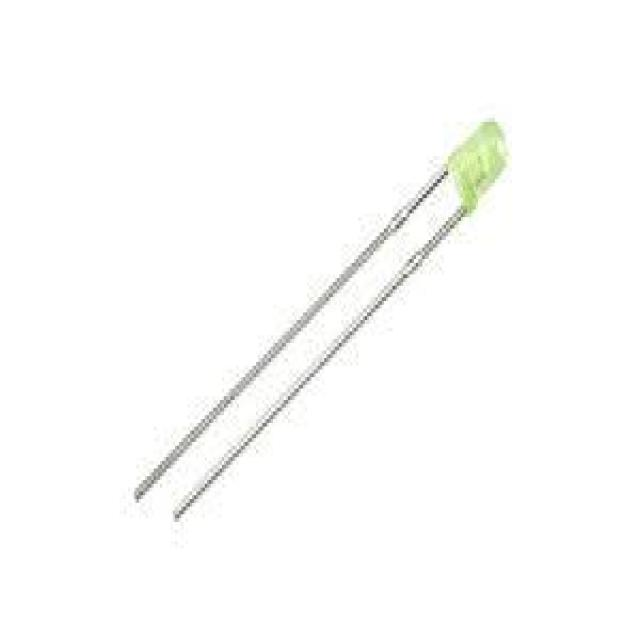Led: (135, 125, 505, 517)
